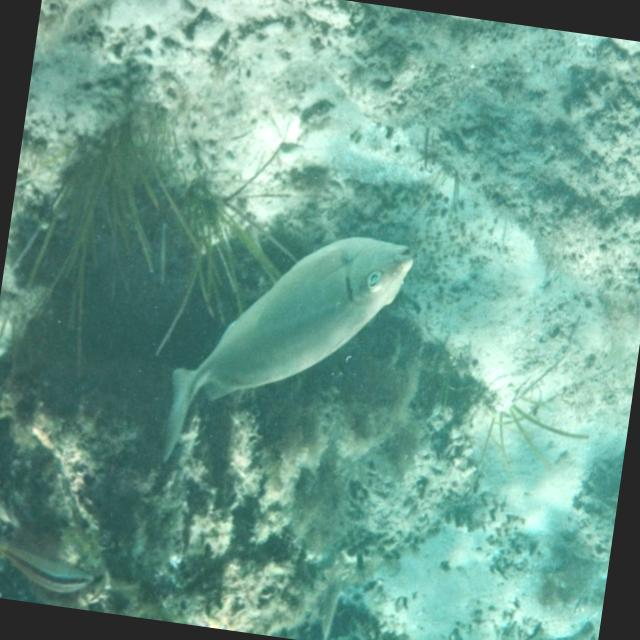Sokar Baligi: (152, 200, 422, 512)
